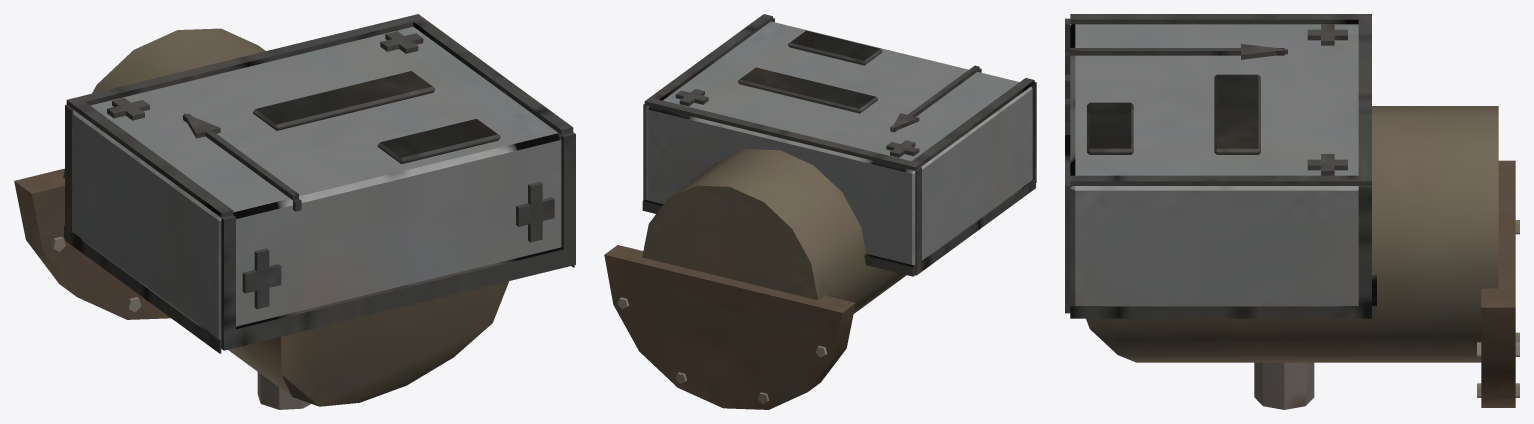
The model's file is top-up-valve.glb.
3 renders of one model, left to right at view 1: azimuth 30°, elevation 25°; view 2: azimuth 150°, elevation 25°; view 3: azimuth 270°, elevation 25°, orthographic. The views are drawn at different scales.
Parts seen in each view (by area): view 1: body; view 2: body; view 3: body.
Boxes of the visible parts, bbox=[...] form: body: bbox=[14, 14, 575, 409]; body: bbox=[604, 14, 1036, 409]; body: bbox=[1065, 14, 1519, 409].
Size of the model in its own units: 0.932 by 0.776 by 1.06.
Materials: 1 (1 with a texture image).
